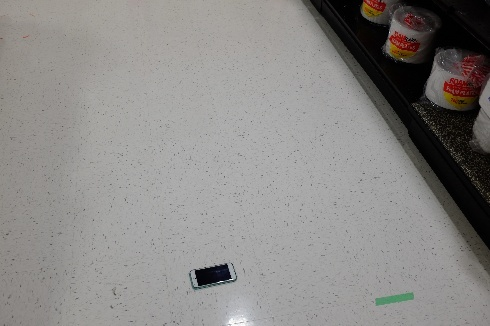phone: (188, 258, 237, 290)
